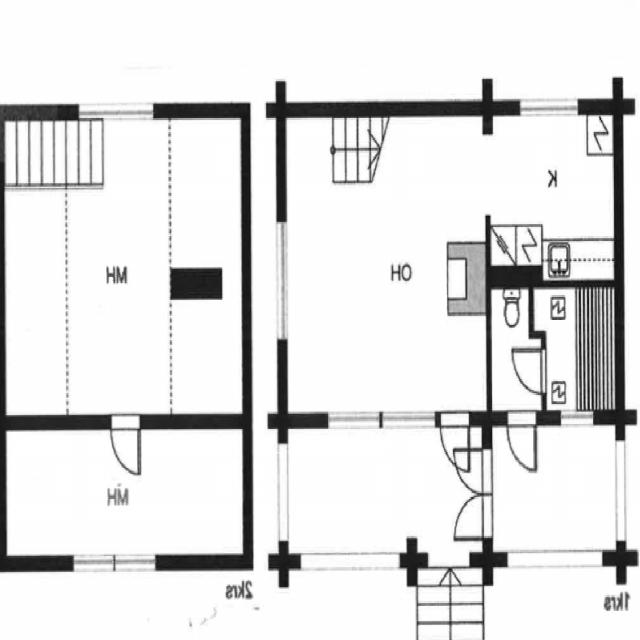door: (441, 410, 469, 469), (112, 414, 140, 473), (456, 494, 492, 537), (456, 451, 492, 494), (508, 410, 535, 467), (514, 349, 546, 393)
